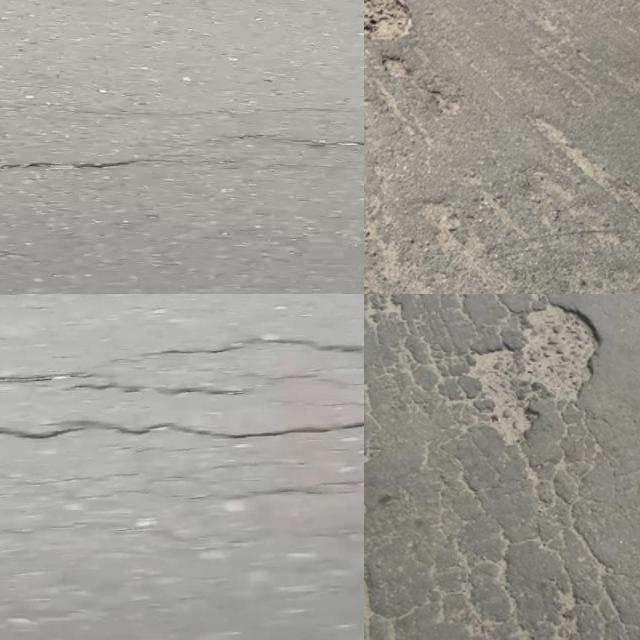Lubang: (455, 302, 602, 438), (364, 0, 422, 40)
Melintang: (0, 410, 364, 451), (0, 143, 170, 189), (141, 330, 364, 362)
